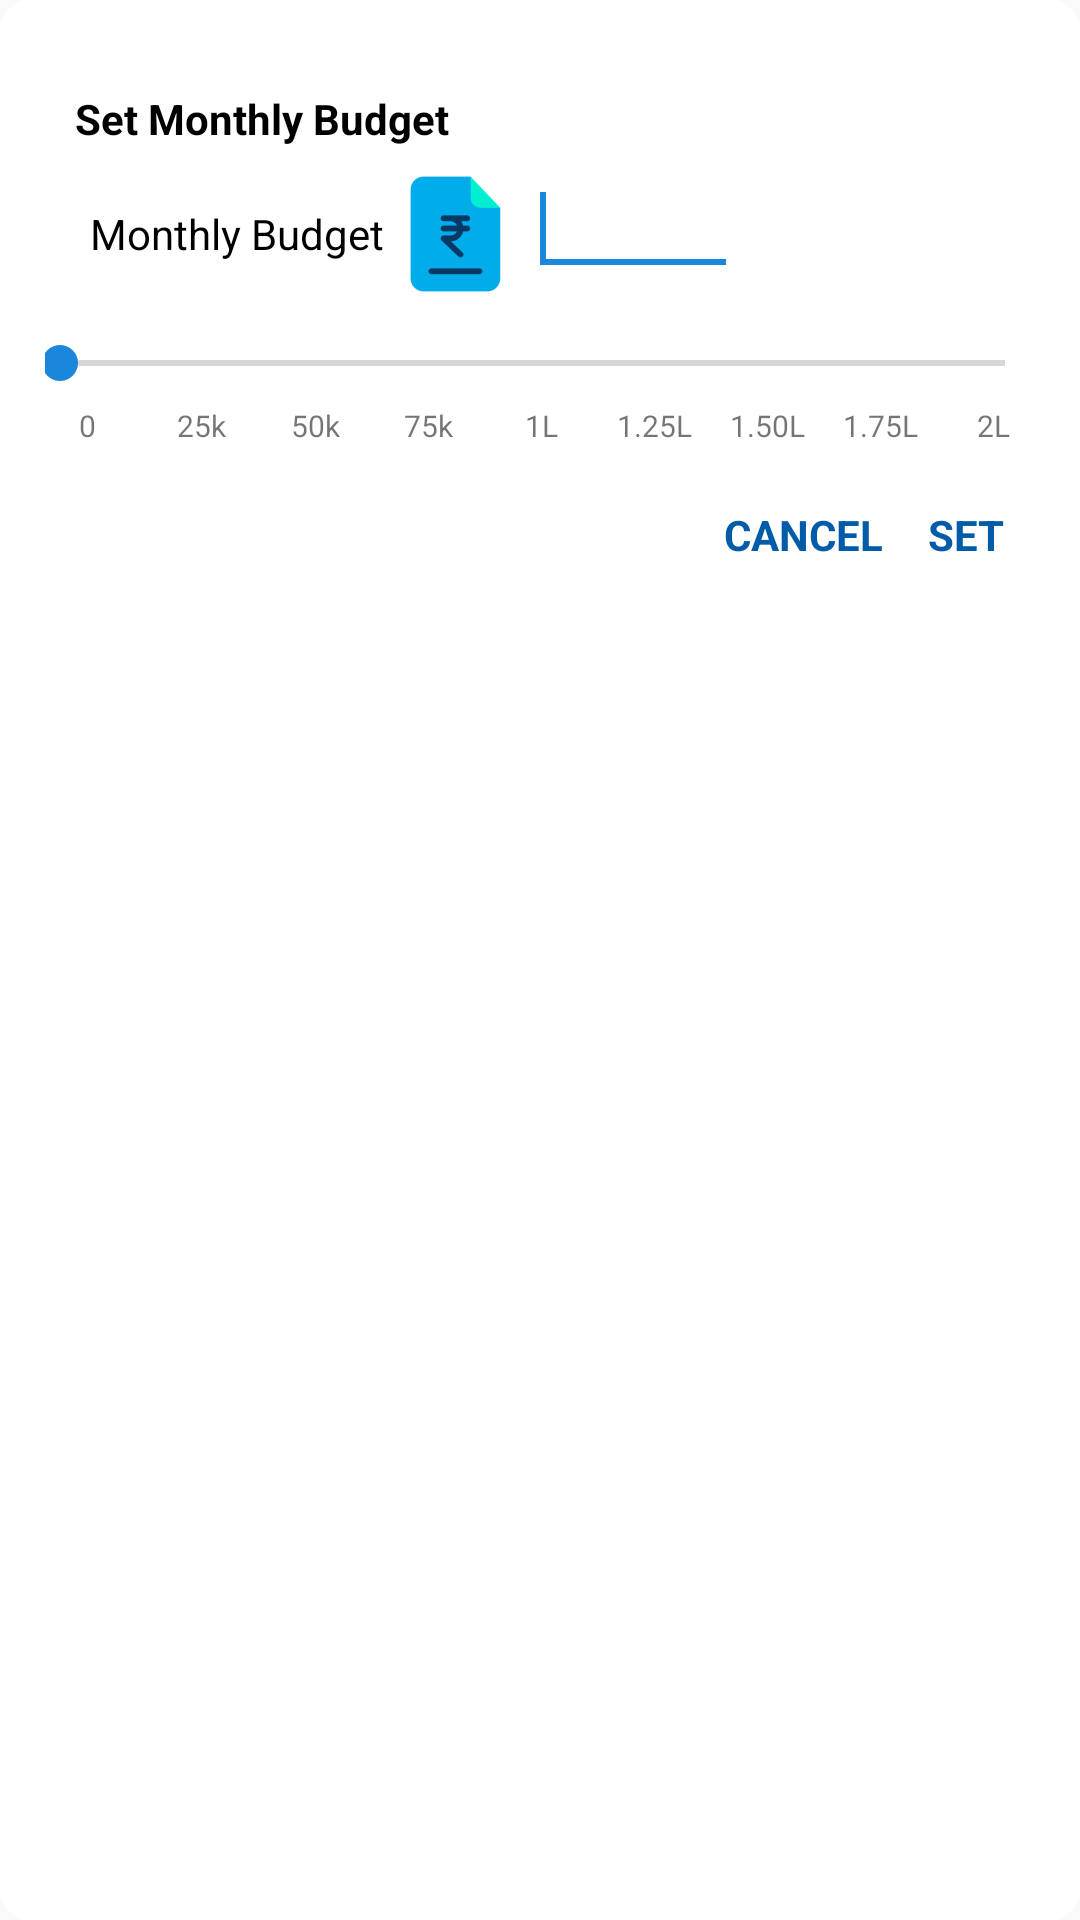

Icons on this 1080px x 1920px Android screen, each with the point to tap as (x,y):
rupee invoice: (455,234)
